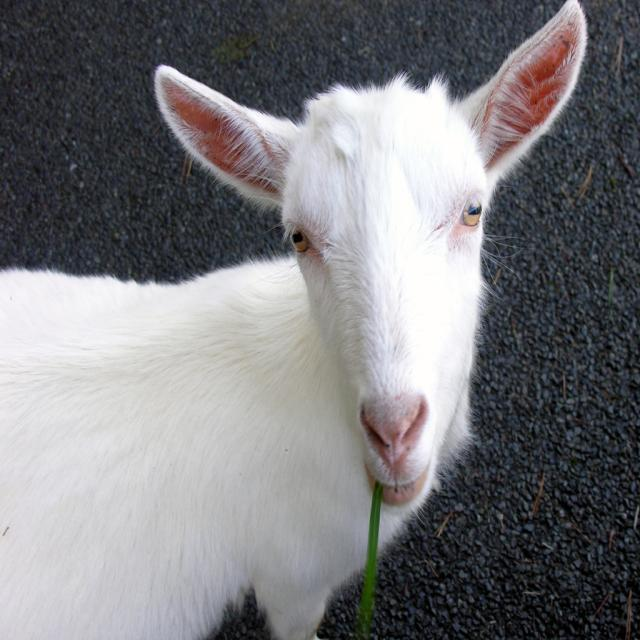Goat: (1, 1, 588, 638)
